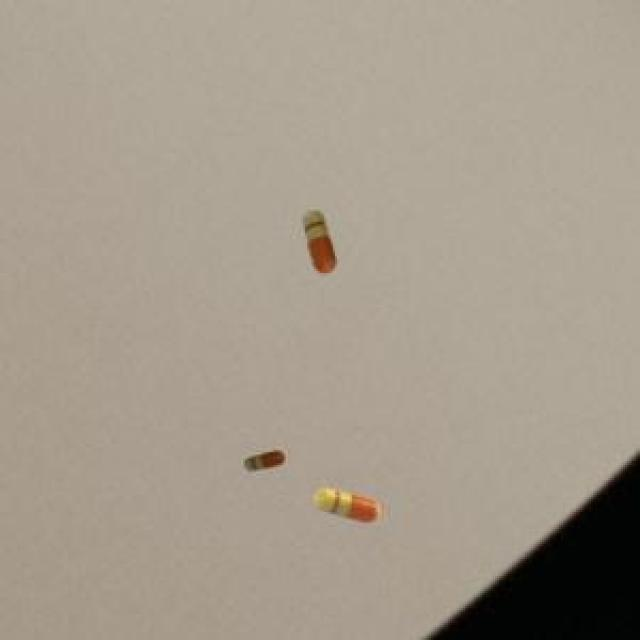Alaxan: (308, 481, 389, 530), (297, 202, 345, 283), (238, 443, 291, 477)
